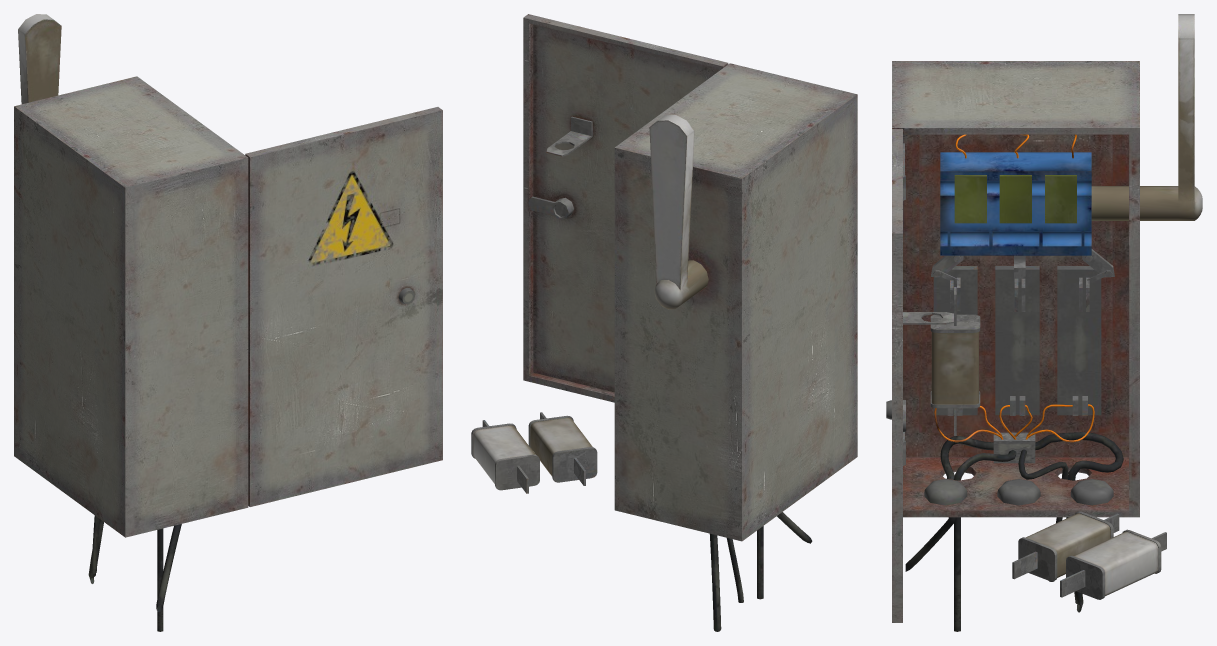
File: InteractableElectricalBox.glb
3 views of the same model, side by side, from view 1: azimuth 30°, elevation 25°; view 2: azimuth 150°, elevation 25°; view 3: azimuth 270°, elevation 25° (orthographic). The views are drawn at different scales.
Parts seen in each view (by area): view 1: Cube_low, Cube.001_low, Cylinder.003_low, object 5; view 2: Cube_low, Cube.001_low, Cylinder.003_low, Cube.016_low, Cube.015_low, object 5, Cube.002_low, Cylinder.002_low; view 3: Cube_low, Cube.006_low, Cube.003_low, Cylinder.003_low, Cube.001_low, Cube.016_low, Cube.005_low, Cube.004_low, object 5, Cube.015_low, Cylinder.005_low, Cube.0017_low (+6 smaller).
Part boxes in pixels (bbox=[...]): Cube_low: bbox=[14, 76, 248, 537]; Cube.001_low: bbox=[245, 107, 442, 506]; Cylinder.003_low: bbox=[18, 14, 61, 104]; object 5: bbox=[88, 515, 181, 631]; Cube_low: bbox=[614, 63, 857, 541]; Cube.001_low: bbox=[523, 14, 728, 402]; Cylinder.003_low: bbox=[649, 115, 708, 309]; Cube.016_low: bbox=[471, 420, 539, 493]; Cube.015_low: bbox=[528, 412, 597, 485]; object 5: bbox=[709, 512, 812, 631]; Cube.002_low: bbox=[546, 116, 592, 156]; Cylinder.002_low: bbox=[528, 196, 573, 219]; Cube_low: bbox=[892, 61, 1139, 517]; Cube.006_low: bbox=[933, 266, 1101, 415]; Cube.003_low: bbox=[940, 152, 1091, 255]; Cylinder.003_low: bbox=[1091, 14, 1202, 220]; Cube.001_low: bbox=[892, 129, 902, 622]; Cube.016_low: bbox=[1060, 529, 1166, 599]; Cube.005_low: bbox=[954, 175, 1076, 223]; Cube.004_low: bbox=[930, 287, 980, 435]; object 5: bbox=[905, 432, 1123, 631]; Cube.015_low: bbox=[1012, 511, 1119, 581]; Cylinder.005_low: bbox=[924, 479, 1113, 505]; Cube.0017_low: bbox=[993, 432, 1035, 463].
Size of the model in its own units: 406 by 664 by 315.
1 material, 1 textured.
